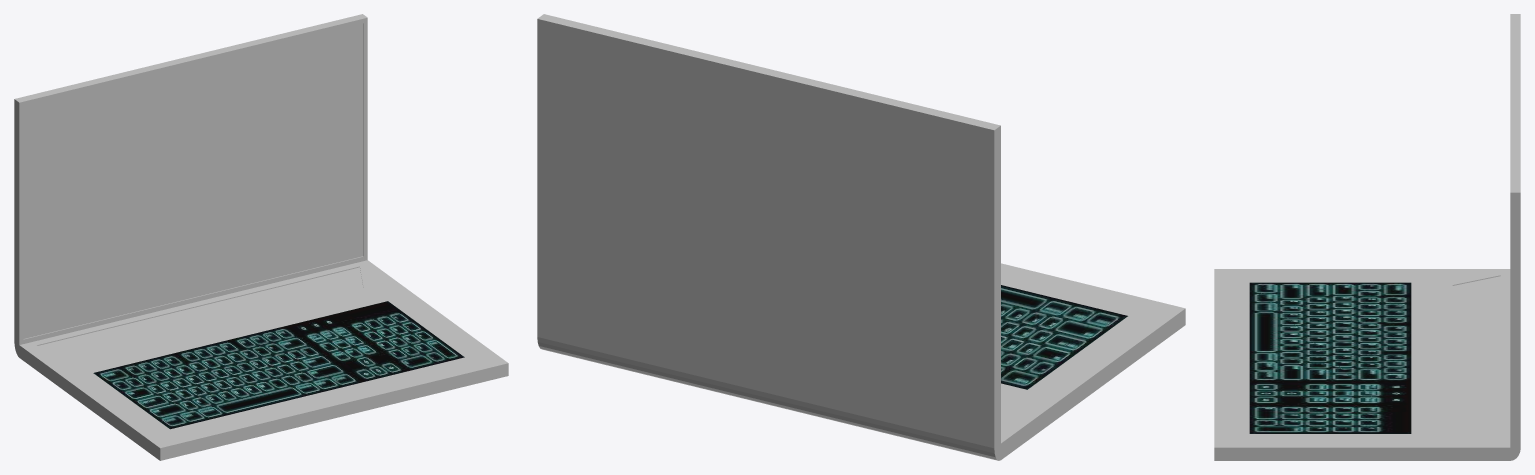
The model's file is Laptop.fbx.
3 renders of one model, left to right at view 1: azimuth 30°, elevation 25°; view 2: azimuth 150°, elevation 25°; view 3: azimuth 270°, elevation 25°, orthographic. The views are drawn at different scales.
Parts seen in each view (by area): view 1: Laptop; view 2: Laptop; view 3: Laptop.
Boxes of the visible parts, left/top/right/bottom form: Laptop: left=14, top=14, right=508, bottom=460; Laptop: left=537, top=14, right=1185, bottom=460; Laptop: left=1214, top=14, right=1520, bottom=460.
Size of the model in its own units: 0.4 by 0.28 by 0.29.
